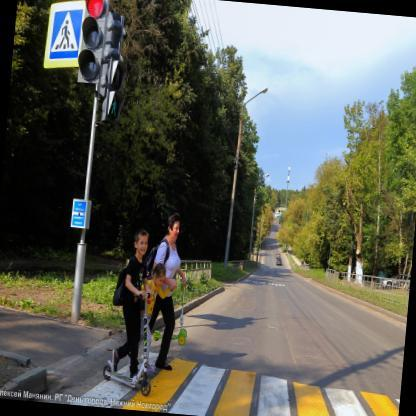road_sign: (44, 1, 85, 67)
traffic light: (77, 0, 108, 83), (96, 59, 124, 121)
